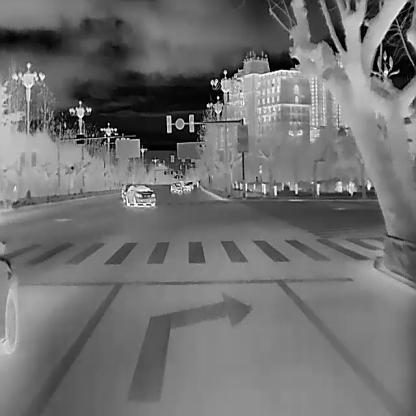car: (125, 183, 156, 206), (170, 182, 183, 194), (183, 182, 191, 191)
